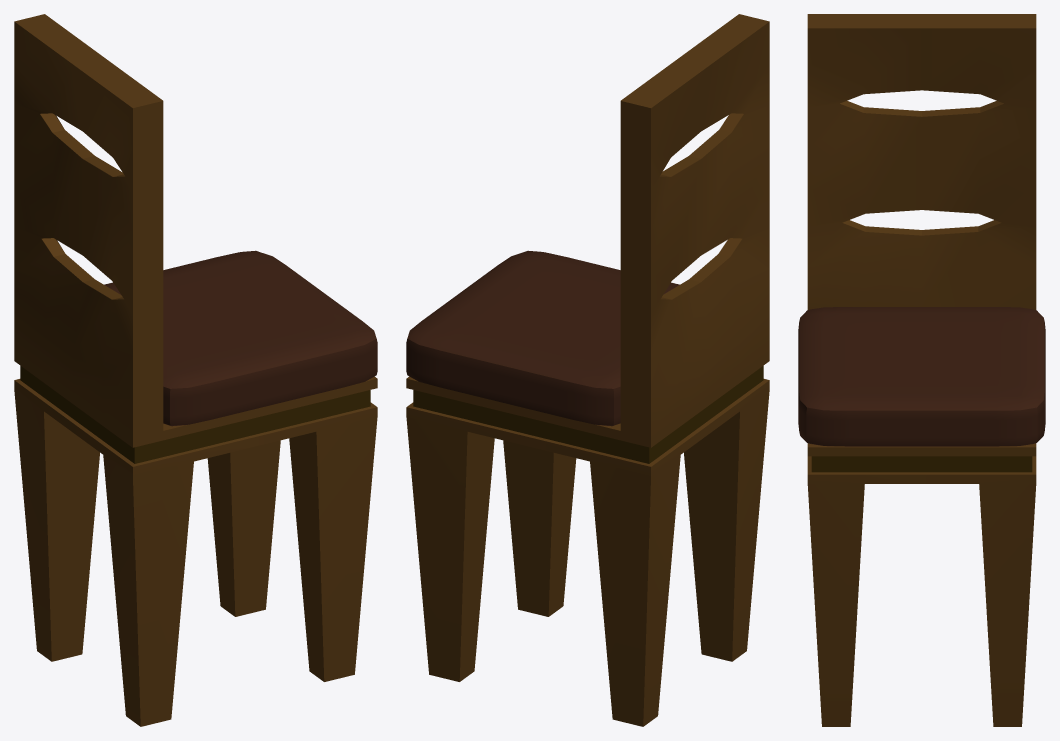
Rendered from new chair.fbx.
The picture shows the model from 3 angles, left to right: view 1: azimuth 30°, elevation 25°; view 2: azimuth 150°, elevation 25°; view 3: azimuth 270°, elevation 25°; orthographic projection. The views are drawn at different scales.
Visible parts, largest first — view 1: Cube, Cube.001, Cube.002; view 2: Cube, Cube.001, Cube.002; view 3: Cube, Cube.001, Cube.002.
Boxes of the visible parts, x1=… form: Cube: x1=14, y1=14, x2=377, y2=726; Cube.001: x1=104, y1=250, x2=377, y2=426; Cube.002: x1=20, y1=366, x2=370, y2=463; Cube: x1=406, y1=14, x2=769, y2=726; Cube.001: x1=406, y1=250, x2=679, y2=426; Cube.002: x1=413, y1=366, x2=763, y2=463; Cube: x1=807, y1=14, x2=1036, y2=726; Cube.001: x1=798, y1=307, x2=1045, y2=446; Cube.002: x1=811, y1=456, x2=1032, y2=472.
Bounding box in the file's own units: 245 × 584 × 217.
